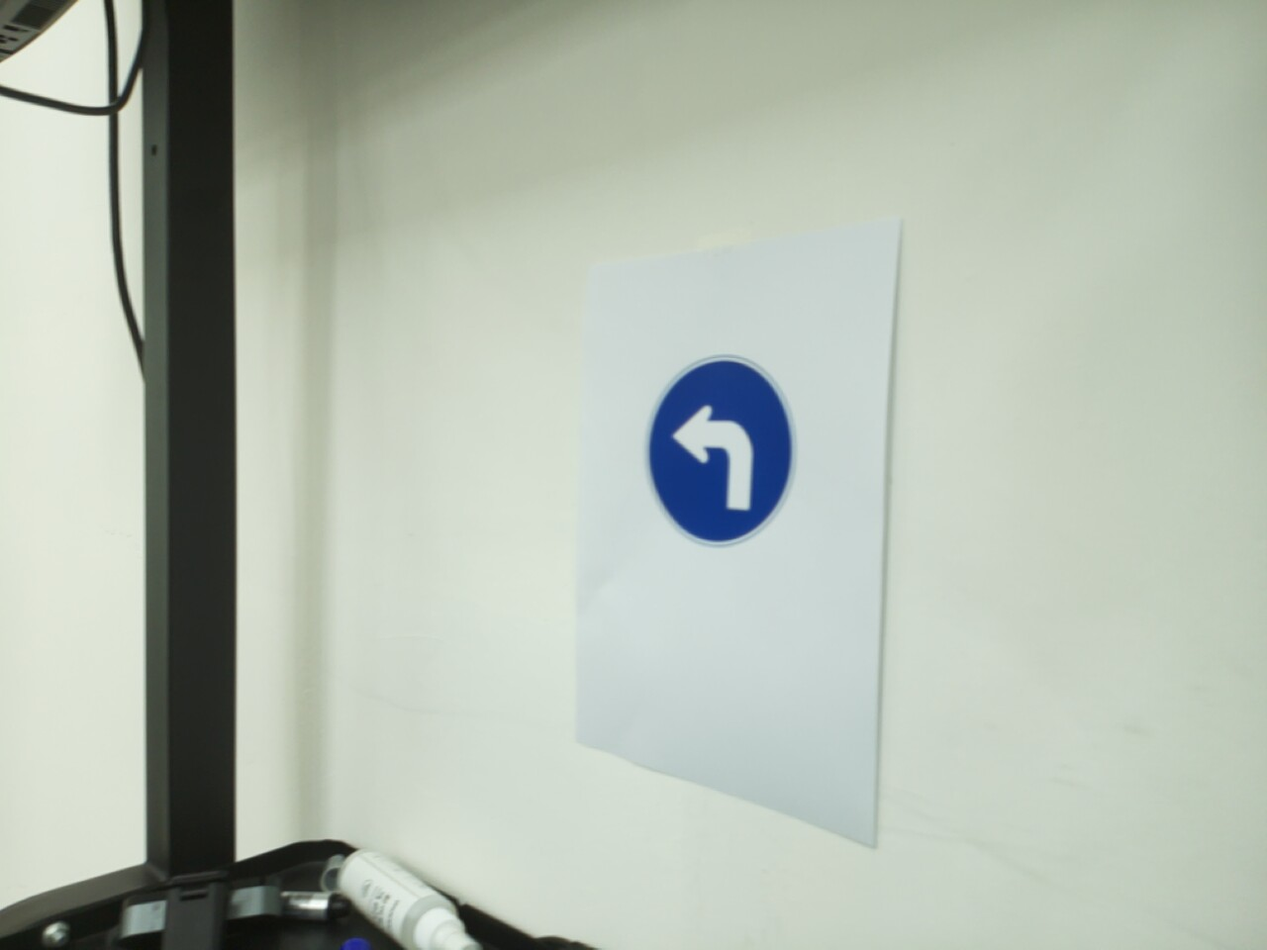left_turn: (642, 353, 799, 549)
